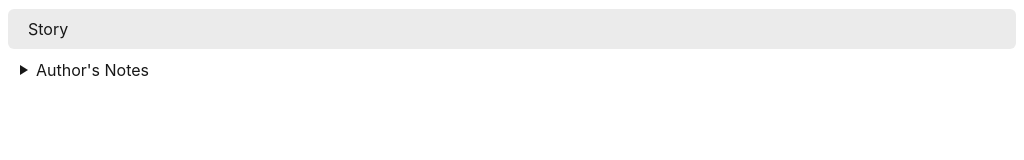
lets the triangle open and close notes without navigating
Click the button named "Expand Author's Notes" at {"x": 24, "y": 70}, box [8,53,40,87]
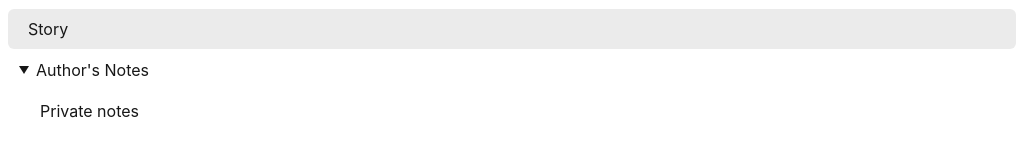
Expected: the text "Private notes" is shown, [40,99,139,123]
Click the button named "Collapse Author's Notes" at {"x": 24, "y": 70}, box [8,53,40,87]
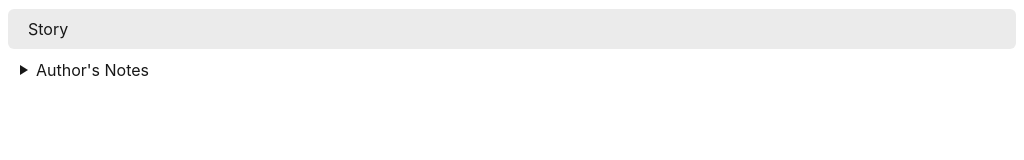
Expected: the text "Private notes" is gone
